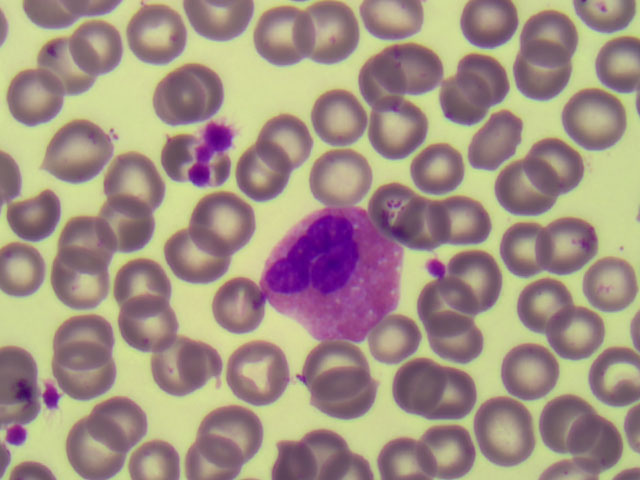Platelets: (38, 380, 67, 416), (421, 256, 450, 281), (203, 124, 229, 151), (189, 163, 207, 189), (195, 144, 214, 167), (3, 427, 28, 444)
RBC: (46, 120, 107, 183), (9, 65, 70, 128), (42, 40, 103, 103), (56, 21, 117, 84), (126, 3, 187, 66), (141, 60, 202, 123), (174, 56, 235, 119), (247, 9, 308, 72), (293, 1, 354, 64), (384, 36, 445, 99), (347, 48, 408, 111), (431, 67, 492, 130), (460, 36, 521, 99), (500, 45, 561, 108), (524, 10, 585, 73), (562, 95, 623, 158), (577, 34, 638, 97), (531, 126, 592, 189), (502, 152, 563, 215), (466, 108, 527, 171), (414, 129, 475, 192), (364, 92, 425, 155), (314, 84, 375, 147), (268, 103, 329, 166), (227, 140, 288, 203), (188, 190, 249, 253), (162, 227, 223, 290), (98, 151, 159, 214), (106, 201, 167, 264), (53, 205, 114, 268), (45, 242, 106, 305), (15, 190, 76, 253), (115, 303, 176, 366), (108, 253, 169, 316), (210, 281, 271, 344), (233, 345, 294, 408), (141, 335, 202, 398), (64, 345, 125, 408), (57, 304, 118, 367), (88, 388, 149, 451), (61, 416, 122, 479), (121, 417, 182, 480), (179, 417, 240, 480), (201, 402, 262, 465), (261, 417, 322, 480), (303, 417, 364, 480), (373, 417, 434, 480), (423, 417, 484, 480), (475, 397, 536, 460), (529, 389, 590, 452), (579, 417, 640, 480), (579, 344, 640, 407), (546, 297, 607, 360), (518, 271, 579, 334), (575, 250, 636, 313), (539, 215, 600, 278), (491, 207, 552, 270), (431, 191, 492, 254), (401, 189, 462, 252), (368, 173, 429, 236), (311, 153, 372, 216), (438, 245, 499, 308), (418, 273, 479, 336), (423, 304, 484, 367), (375, 308, 436, 371), (382, 351, 443, 414), (418, 360, 479, 423), (318, 368, 379, 431), (305, 339, 366, 402), (463, 1, 524, 63), (1, 242, 61, 305)
WBC: (261, 206, 407, 340)
